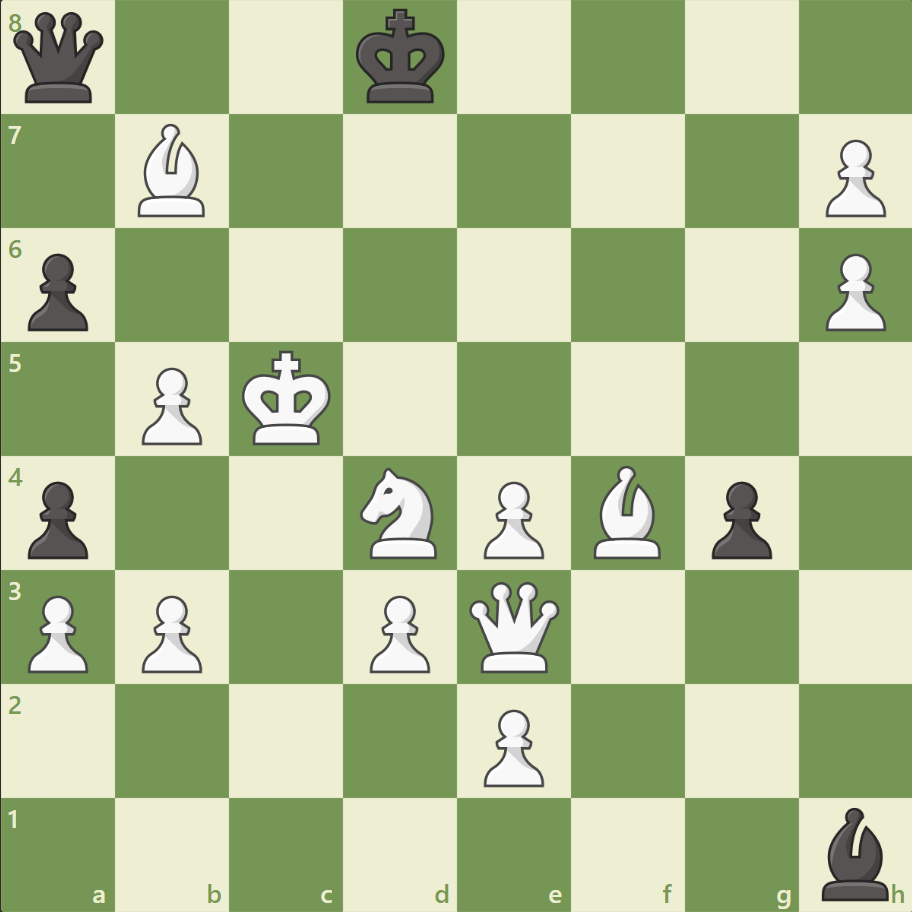B: (585, 460, 669, 563), (131, 120, 215, 222)
K: (238, 344, 338, 452)
N: (351, 461, 449, 564)
P: (133, 359, 208, 450), (474, 473, 549, 564), (20, 586, 95, 677), (133, 586, 208, 677), (474, 700, 549, 791), (815, 132, 889, 223), (815, 246, 889, 337), (361, 586, 435, 677)
Q: (464, 576, 563, 676)
b: (812, 801, 896, 904)
k: (351, 4, 451, 112)
p: (20, 246, 95, 337), (20, 473, 95, 564), (701, 473, 776, 564)
q: (10, 9, 109, 108)
